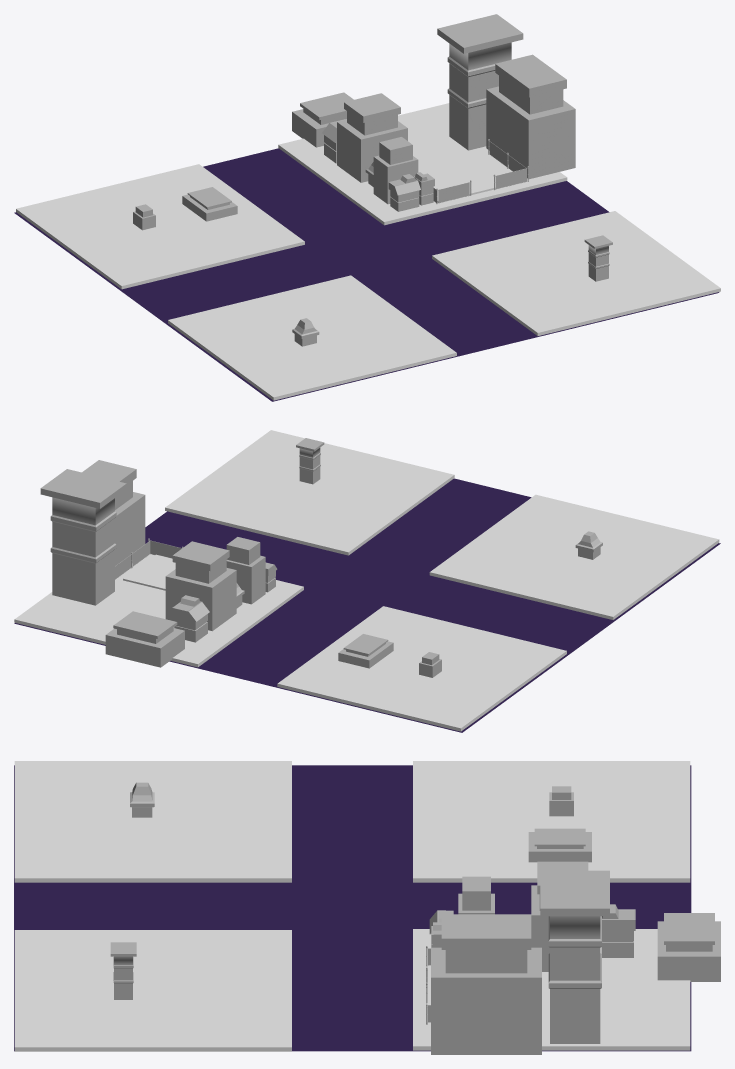
The model's file is Baobab Crossroads_2.glb.
The picture shows the model from 3 angles, top to bottom: view 1: azimuth 30°, elevation 25°; view 2: azimuth 150°, elevation 25°; view 3: azimuth 270°, elevation 25°; orthographic projection. The views are drawn at different scales.
Visible parts, largest first — view 1: Street, Sidewalk 3, Sidewalk 4, Sidewalk 2, Building_05.002, Sidewalk 1, Building_02.001, Building_05.001, Building_04.001, Building_05.003, Cube, Building_05 (+2 smaller); view 2: Street, Sidewalk 3, Sidewalk 4, Sidewalk 2, Building_02.001, Sidewalk 1, Building_05.001, Building_05.003, Building_05.002, Building_04.001, Building_05, Building_03.002 (+3 smaller); view 3: Street, Sidewalk 3, Sidewalk 4, Sidewalk 2, Building_05.002, Sidewalk 1, Building_02.001, Building_05.003, Building_05, Building_05.001, Building_03.002, Building_04.001 (+3 smaller).
Boxes of the visible parts, left/top/right/bottom form: Street: left=14, top=148, right=719, bottom=401; Sidewalk 3: left=168, top=275, right=456, bottom=400; Sidewalk 4: left=432, top=211, right=720, bottom=335; Sidewalk 2: left=16, top=164, right=304, bottom=289; Building_05.002: left=486, top=54, right=575, bottom=179; Sidewalk 1: left=278, top=103, right=567, bottom=225; Building_02.001: left=437, top=14, right=523, bottom=150; Building_05.001: left=337, top=93, right=407, bottom=182; Building_04.001: left=373, top=137, right=418, bottom=204; Building_05.003: left=292, top=92, right=353, bottom=147; Cube: left=422, top=157, right=507, bottom=202; Building_05: left=182, top=187, right=237, bottom=221; Street: left=14, top=478, right=720, bottom=732; Sidewalk 3: left=429, top=494, right=719, bottom=619; Sidewalk 4: left=165, top=430, right=454, bottom=555; Sidewalk 2: left=277, top=606, right=566, bottom=731; Building_02.001: left=40, top=469, right=126, bottom=605; Sidewalk 1: left=14, top=554, right=303, bottom=667; Building_05.001: left=165, top=541, right=236, bottom=631; Building_05.003: left=105, top=611, right=184, bottom=667; Building_05.002: left=82, top=460, right=145, bottom=565; Building_04.001: left=226, top=537, right=265, bottom=604; Building_05: left=338, top=634, right=393, bottom=668; Building_03.002: left=172, top=595, right=209, bottom=642; Street: left=14, top=765, right=691, bottom=1051; Sidewalk 3: left=14, top=761, right=291, bottom=882; Sidewalk 4: left=14, top=930, right=291, bottom=1051; Sidewalk 2: left=413, top=761, right=690, bottom=882; Building_05.002: left=431, top=914, right=541, bottom=1054; Sidewalk 1: left=413, top=929, right=690, bottom=1050; Building_02.001: left=540, top=870, right=609, bottom=1043; Building_05.003: left=657, top=913, right=720, bottom=981; Building_05: left=528, top=828, right=591, bottom=862; Building_05.001: left=531, top=861, right=588, bottom=971; Building_03.002: left=601, top=904, right=635, bottom=957; Building_04.001: left=458, top=876, right=494, bottom=914.
Size of the model in its own units: 62.01 by 14.25 by 62.64.
